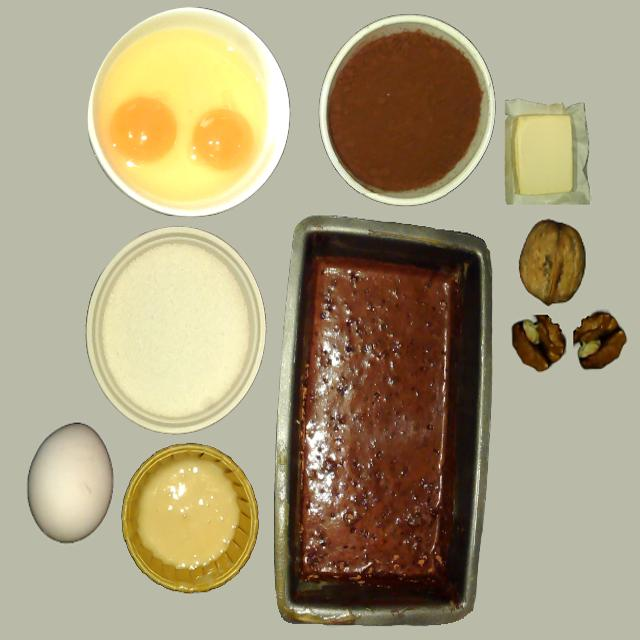Cocoa: (328, 28, 482, 193)
Egg: (109, 96, 178, 166), (191, 108, 253, 172)
Sugar: (100, 241, 250, 425)
Walnut: (518, 221, 585, 306)
